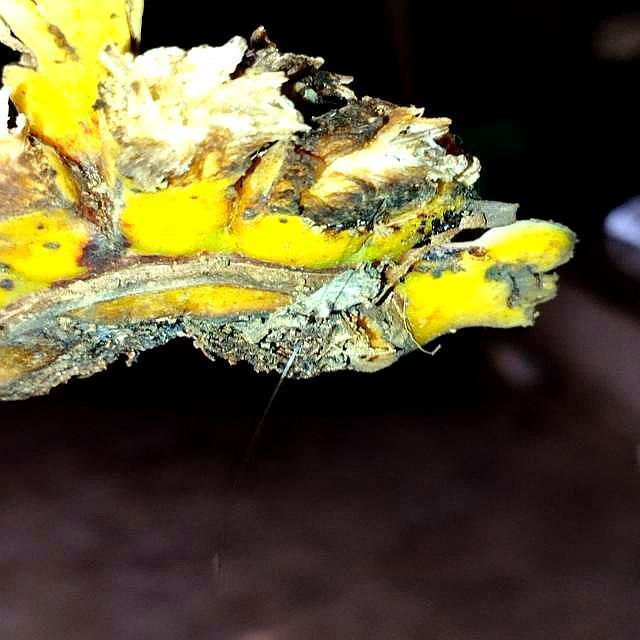Biodegradable: (1, 1, 571, 405)
